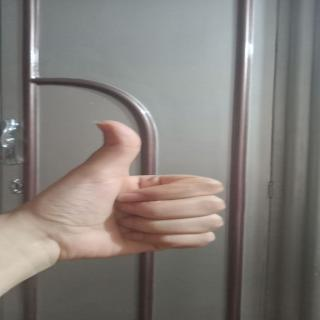ALIF: (11, 119, 267, 263)
